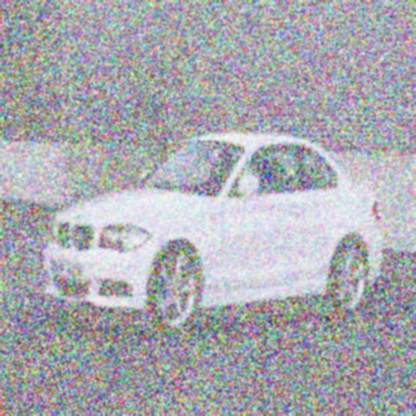Vehicle: (37, 129, 387, 368)
